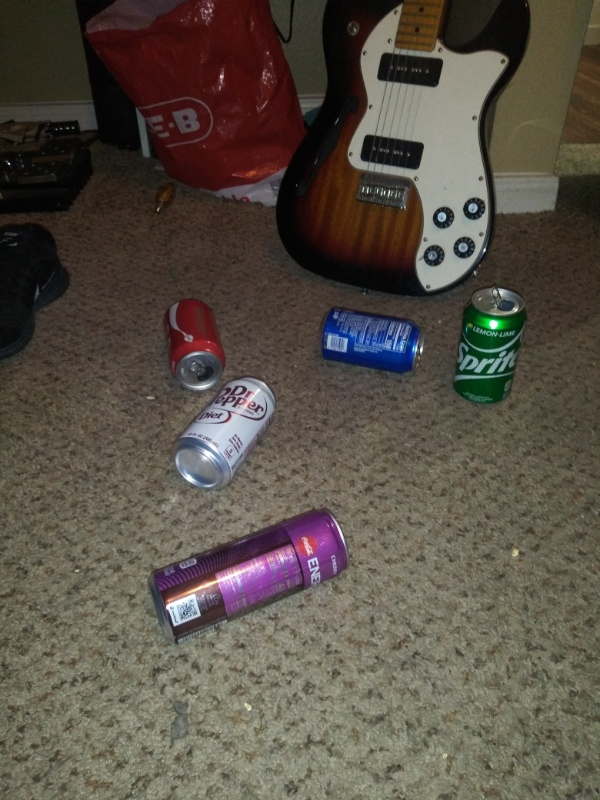can: (141, 506, 357, 646), (170, 375, 283, 496), (448, 280, 531, 408), (313, 303, 431, 378), (153, 288, 232, 397)
